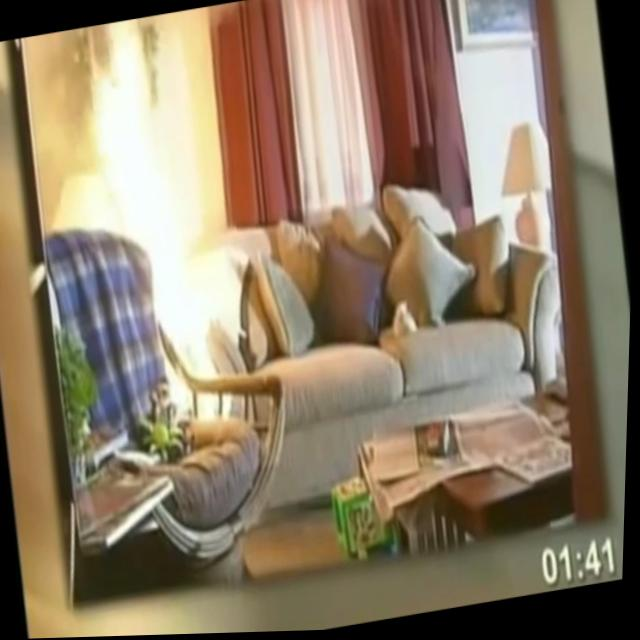fire: (71, 12, 233, 430)
